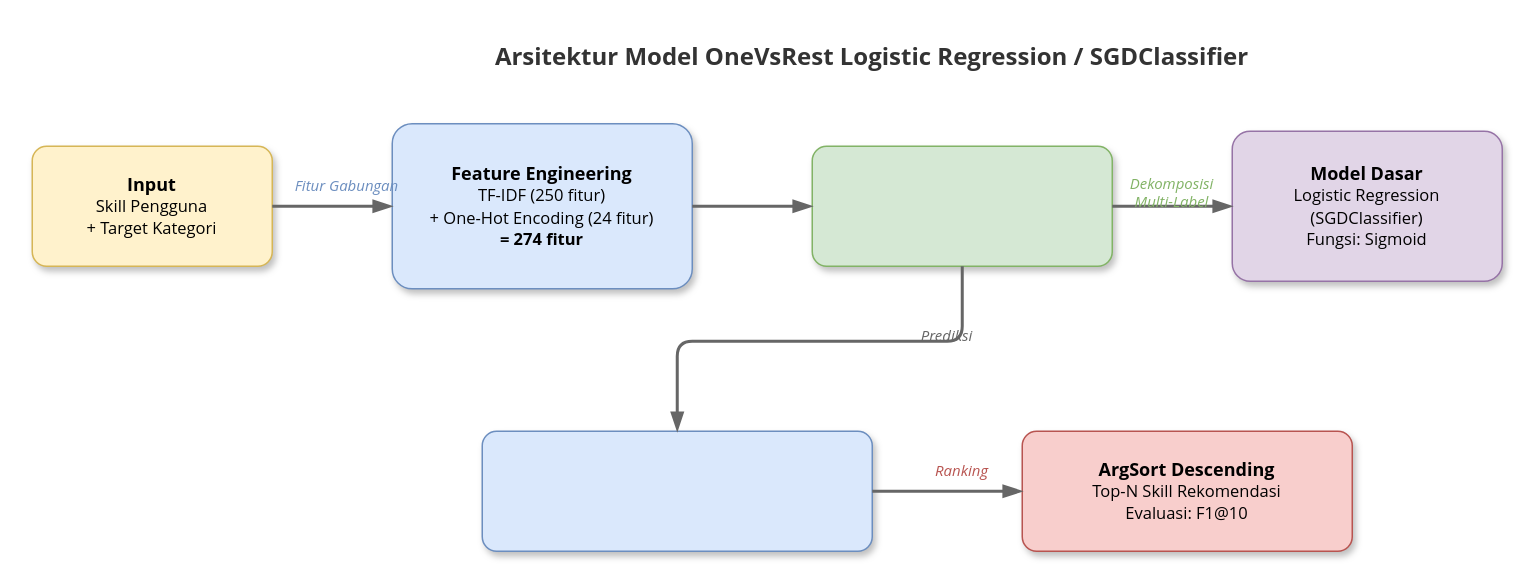
Image size: 1538x588. Some labels were removed from this diagram. The centre of each missing label's shape, as x and y in pixels:
"OneVsRestClassifier Multi-Label Strategy 250 Classifier Biner" belongs at point 963,208.
"Probabilitas Kebutuhan 250 Kandidat Skill (Skor Probabilitas per Label)" belongs at point 678,493.
